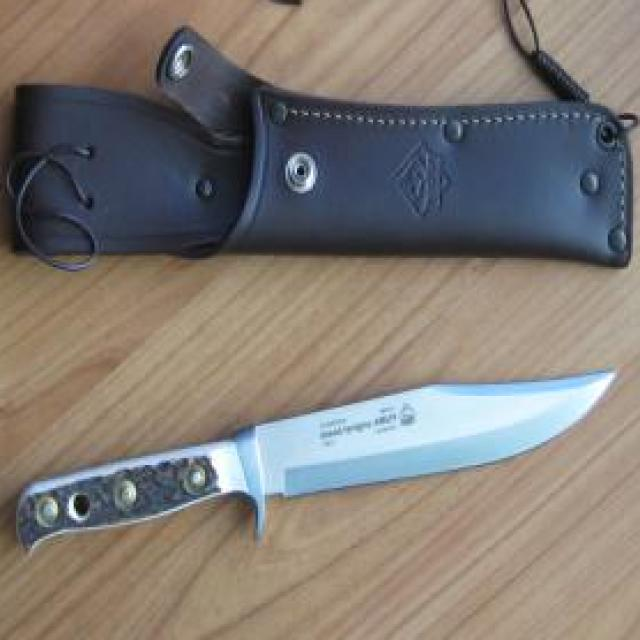knife: (233, 354, 626, 552)
